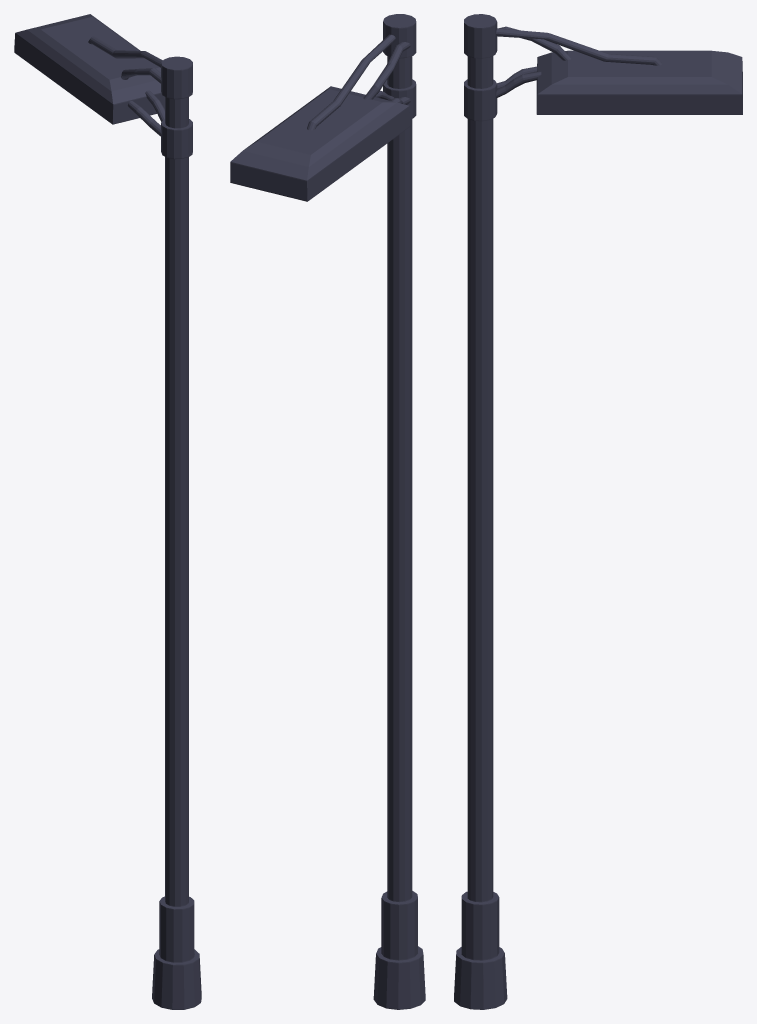
File: Lamppost.fbx
3 views of the same model, side by side, from view 1: azimuth 30°, elevation 25°; view 2: azimuth 150°, elevation 25°; view 3: azimuth 270°, elevation 25° (orthographic). The views are drawn at different scales.
Parts seen in each view (by area): view 1: Плоскость.005; view 2: Плоскость.005; view 3: Плоскость.005.
Part boxes in pixels (bbox=[...]): Плоскость.005: bbox=[14, 14, 201, 1009]; Плоскость.005: bbox=[230, 14, 425, 1009]; Плоскость.005: bbox=[454, 14, 742, 1009].
Size of the model in its own units: 25.15 by 303 by 81.05.
